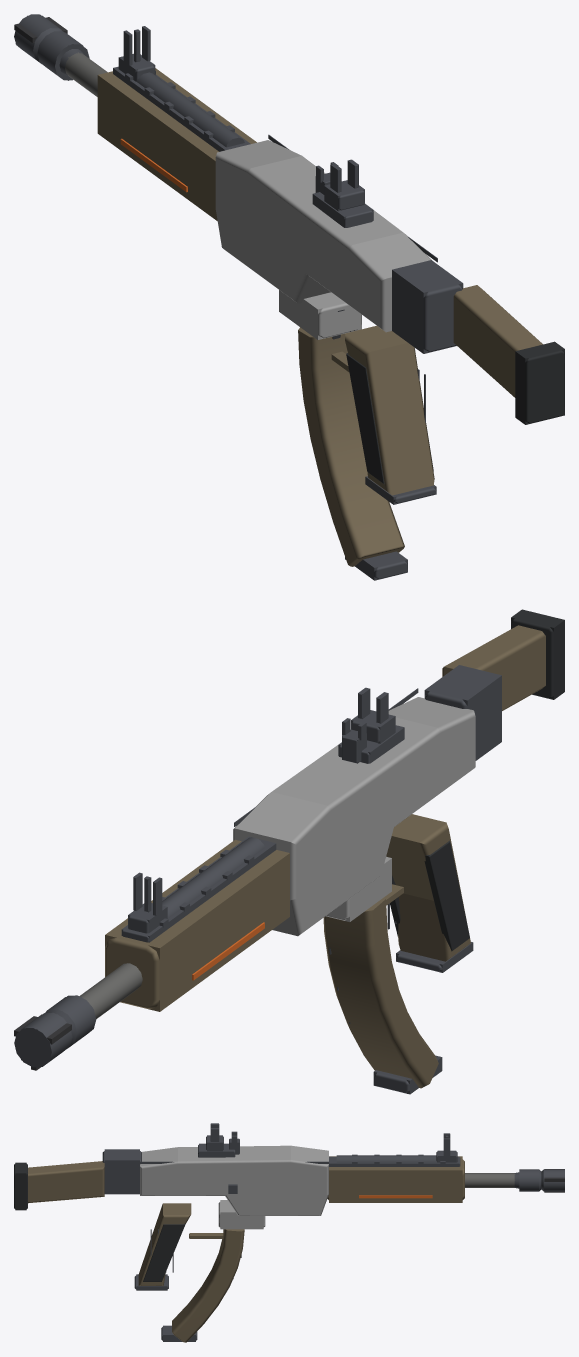
File: c_ember.glb
3 views of the same model, one above another, from view 1: azimuth 30°, elevation 25°; view 2: azimuth 150°, elevation 25°; view 3: azimuth 270°, elevation 25° (orthographic). The views are drawn at different scales.
Visible parts, largest first — view 1: L0, L1; view 2: L0, L1; view 3: L0, L1.
Part boxes in pixels (x1,y1,x2,y2): L0: (14, 14, 564, 579); L1: (15, 15, 564, 580); L0: (14, 610, 564, 1093); L1: (15, 609, 564, 1094); L0: (14, 1123, 564, 1342); L1: (15, 1123, 564, 1341).
Bounding box in the file's own units: 0.0582 × 0.2961 × 0.7002.
